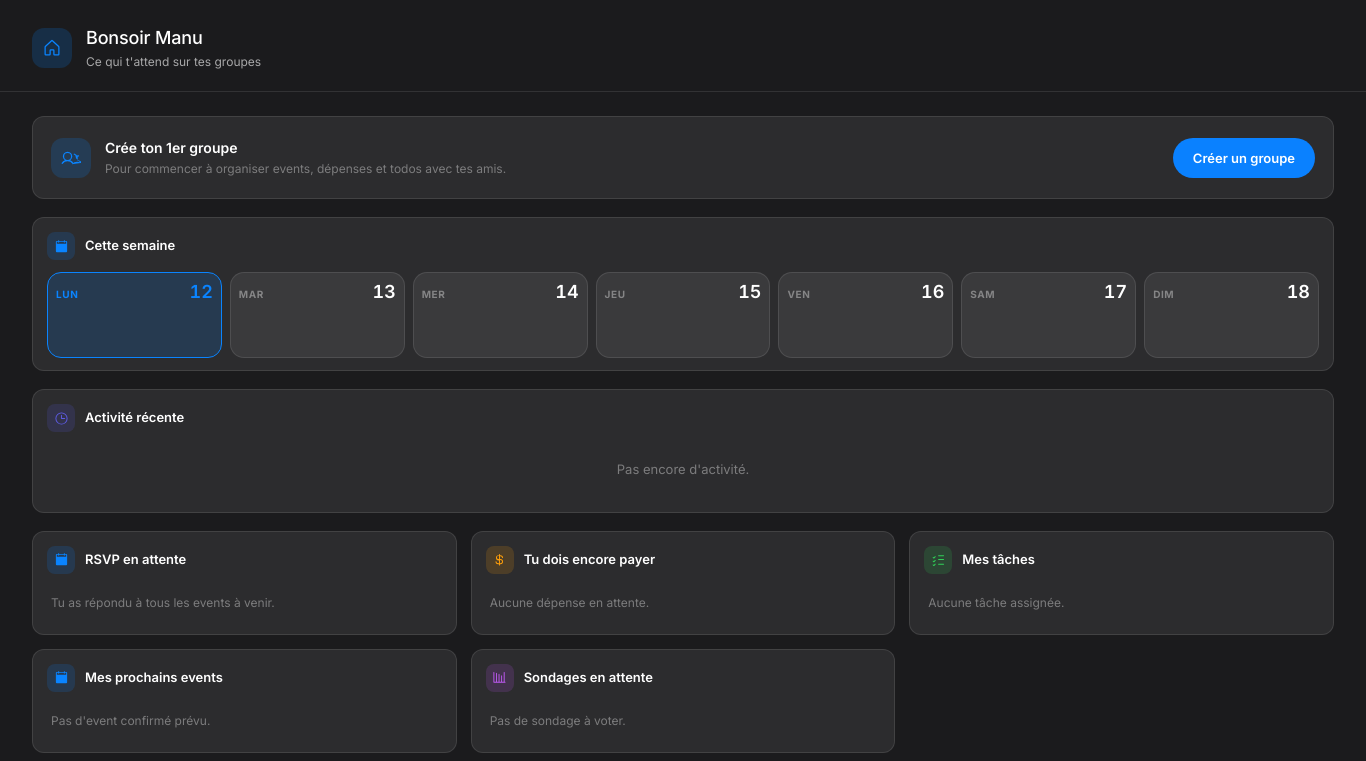
Test: HomeDashboard — CTA de création de groupe (MAN-243) › offre un bouton de création quand le user n’a réellement aucun groupe
Expected: the text "Crée ton 1er groupe" is shown, [105,139,238,156]
Et le bouton ouvre réellement le formulaire partagé (MAN-200).
What coordinates should you click on to do the following:
click the button "Créer un groupe"
I would click on:
 (1244, 158)
Its box is [1173,138,1315,178].
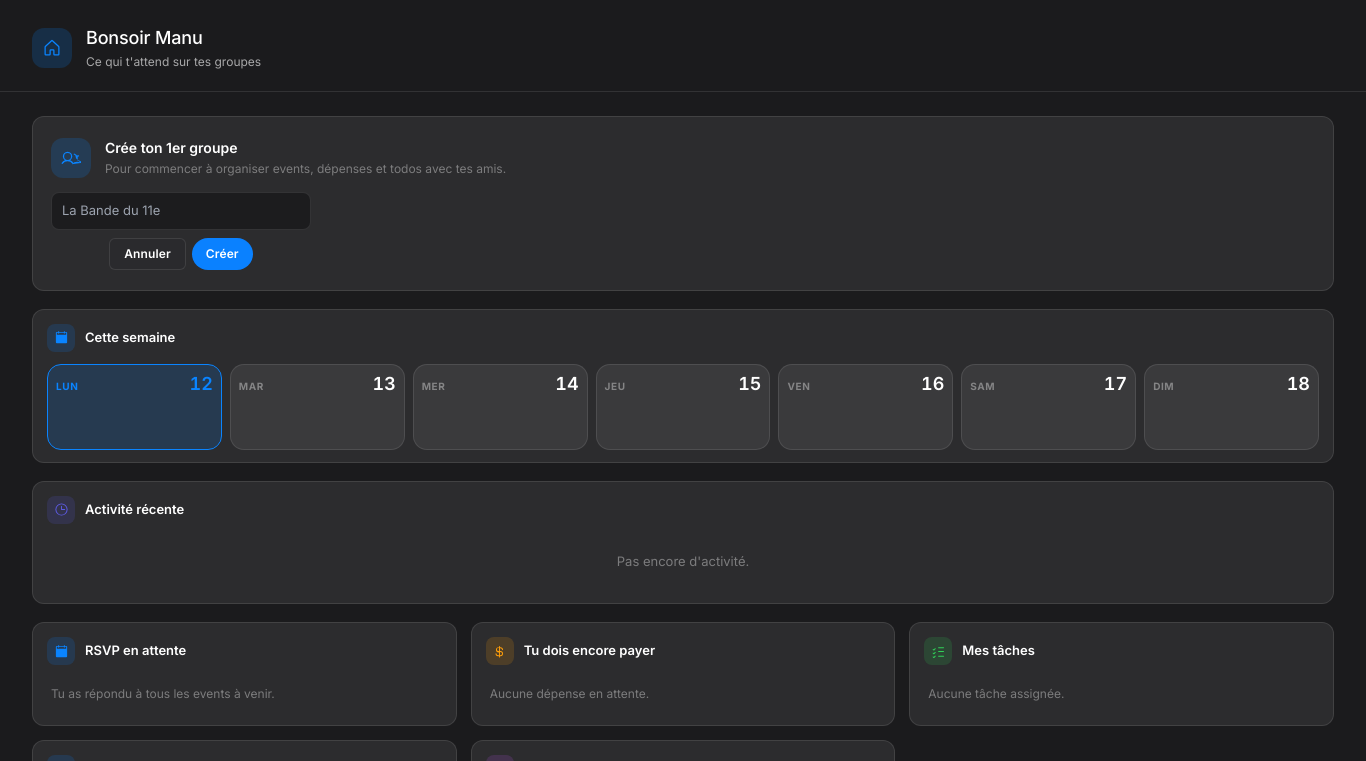
Now the field is shown, box [51,192,311,230]
